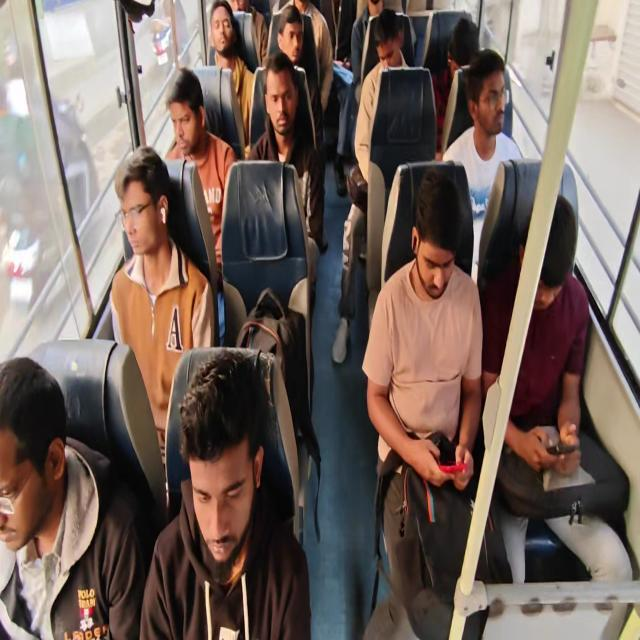person: (480, 193, 633, 583), (362, 168, 488, 638), (138, 348, 312, 638), (0, 355, 146, 639), (109, 144, 215, 483), (331, 8, 411, 364), (247, 51, 326, 303), (441, 47, 524, 279), (164, 66, 237, 272), (268, 5, 321, 150), (208, 0, 255, 148), (432, 17, 479, 154), (350, 0, 384, 108), (226, 0, 268, 70)
